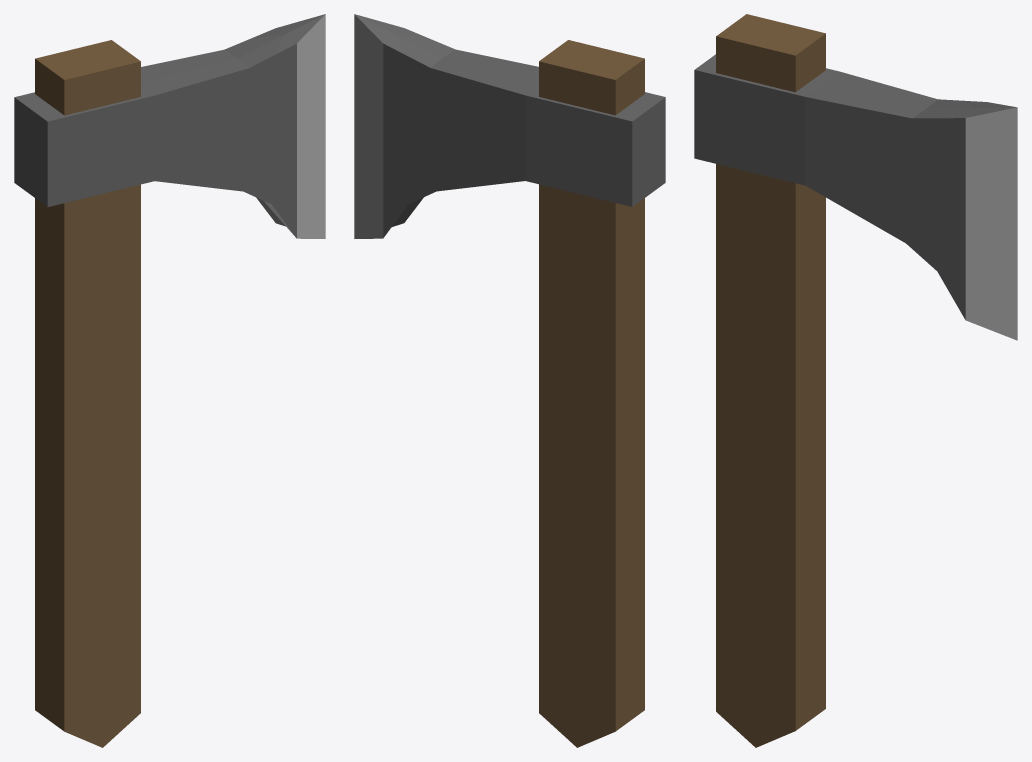
File: Bijl.fbx
The picture shows the model from 3 angles, left to right: view 1: azimuth 30°, elevation 25°; view 2: azimuth 150°, elevation 25°; view 3: azimuth 330°, elevation 25°; orthographic projection. The views are drawn at different scales.
Visible parts, largest first — view 1: Cube.001; view 2: Cube.001; view 3: Cube.001.
Part boxes in pixels (x1,y1,x2,y2): Cube.001: (14,14,325,747); Cube.001: (354,14,665,747); Cube.001: (694,14,1017,747).
Bounding box in the file's own units: 15.79 × 34.67 × 3.1.
